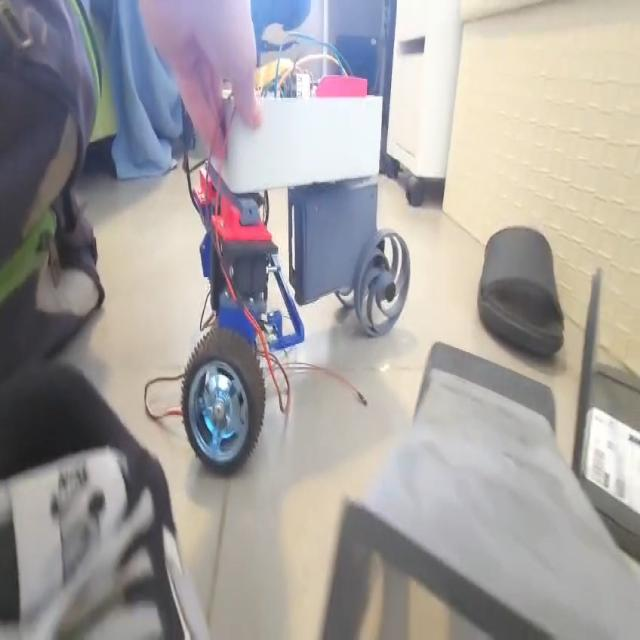Robot: (182, 62, 412, 478)
